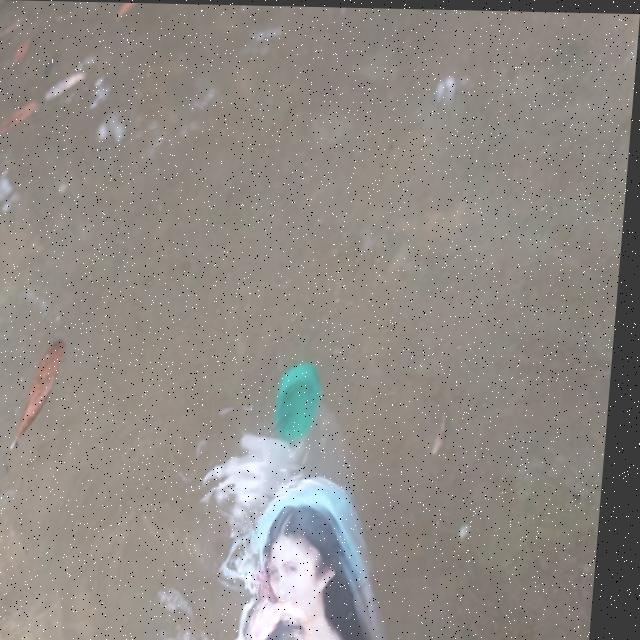leaf: (14, 322, 79, 461), (0, 94, 49, 150), (6, 32, 47, 76), (96, 2, 148, 22)
waterbottle: (208, 336, 442, 640)
